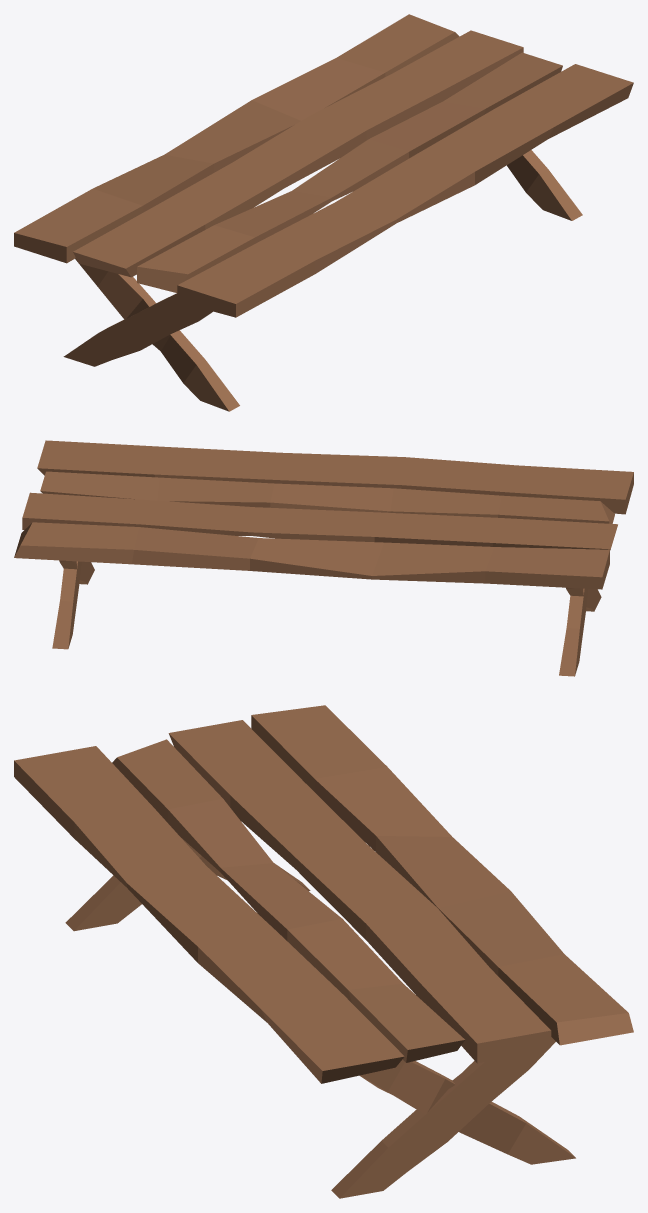
Rendered from table.glb.
The picture shows the model from 3 angles, top to bottom: view 1: azimuth 30°, elevation 25°; view 2: azimuth 150°, elevation 25°; view 3: azimuth 270°, elevation 25°; orthographic projection. The views are drawn at different scales.
Visible parts, largest first — view 1: table 2; view 2: table 2; view 3: table 2.
Boxes of the visible parts, x1,y1,x2,y2 form: table 2: [14, 14, 633, 411]; table 2: [14, 440, 633, 676]; table 2: [14, 705, 633, 1198].
Size of the model in its own units: 1.22 by 0.244 by 0.8735.
